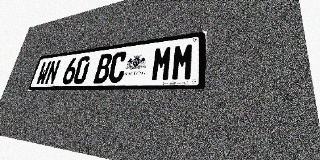0: (72, 56, 91, 84)
6: (61, 57, 79, 84)
B: (93, 53, 113, 83)
C: (107, 51, 128, 83)
M: (171, 42, 195, 81), (150, 45, 173, 82)
N: (44, 59, 61, 85)
W: (35, 61, 52, 85)
